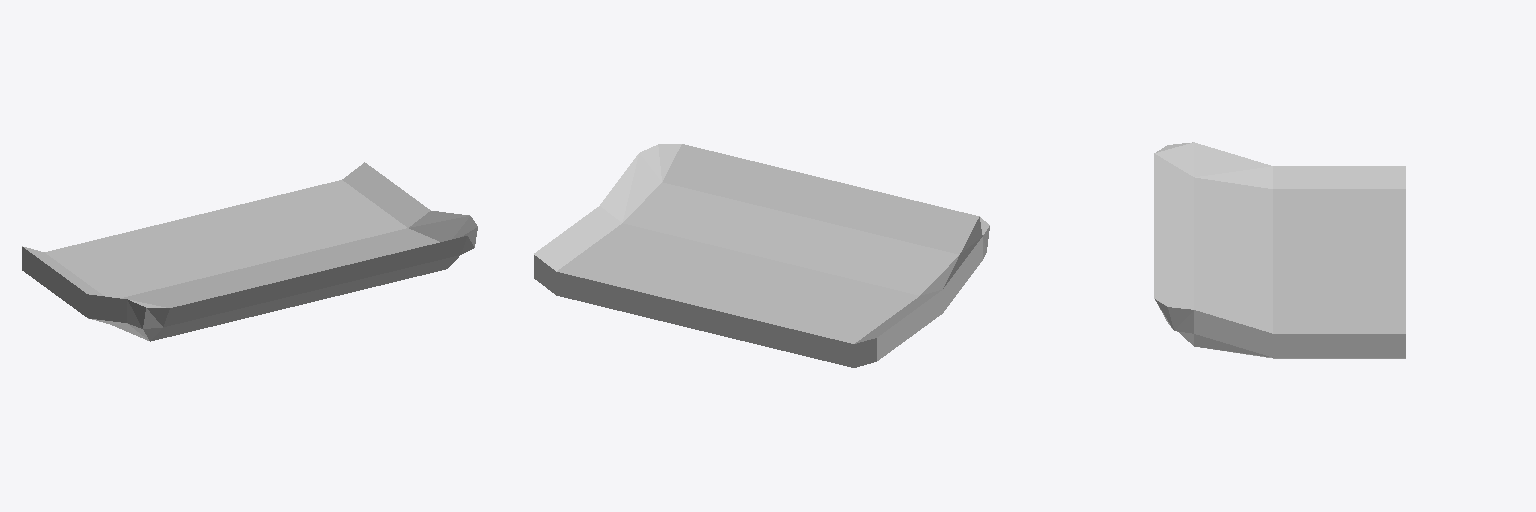
Rendered from skidplate_small.obj.
3 renders of one model, left to right at view 1: azimuth 30°, elevation 25°; view 2: azimuth 150°, elevation 25°; view 3: azimuth 270°, elevation 25°, orthographic.
Parts seen in each view (by area): view 1: small; view 2: small; view 3: small.
Boxes of the visible parts, x1,y1,x2,y2 form: small: [22, 162, 477, 341]; small: [534, 144, 989, 367]; small: [1154, 142, 1405, 358].
Size of the model in its own units: 0.9375 by 0.1562 by 0.5938.